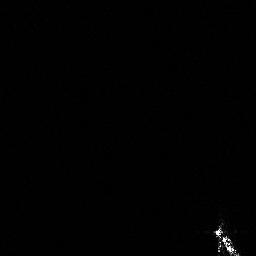ship: (210, 217, 245, 256)
